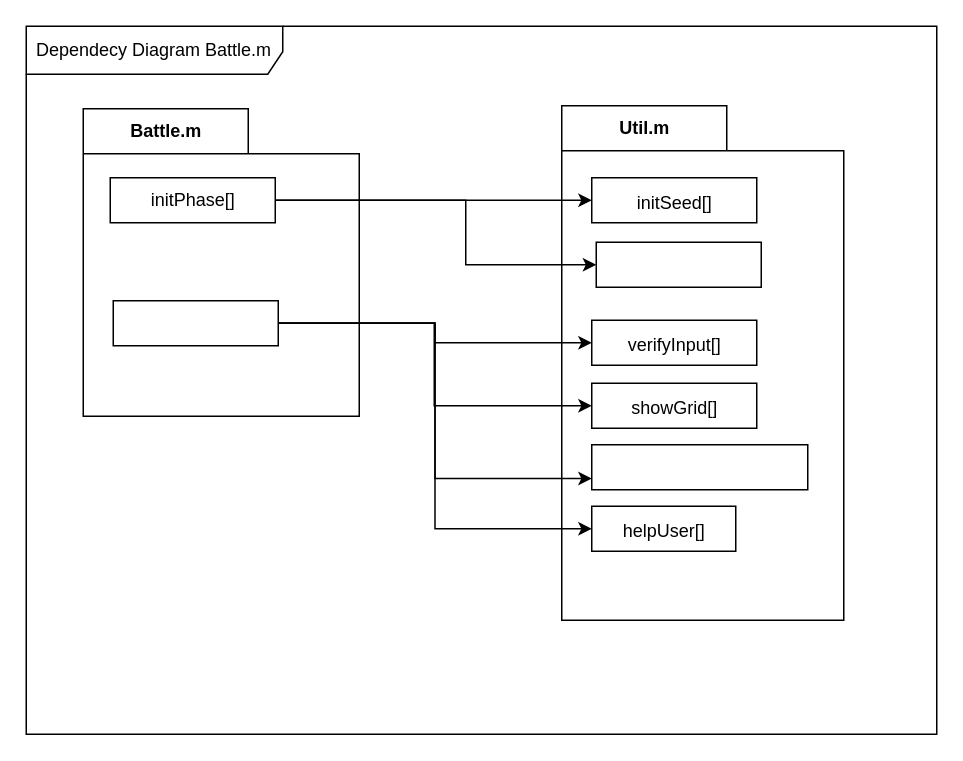
Some shapes in this 963 by 761 pixel diagram are drawn without their labels. Each missing label, with the centre of its shape:
"createGrid[]" goes at (x=678, y=264).
"helpUserPersonalized[]" goes at (x=699, y=466).
"startGame[]" goes at (x=195, y=322).
